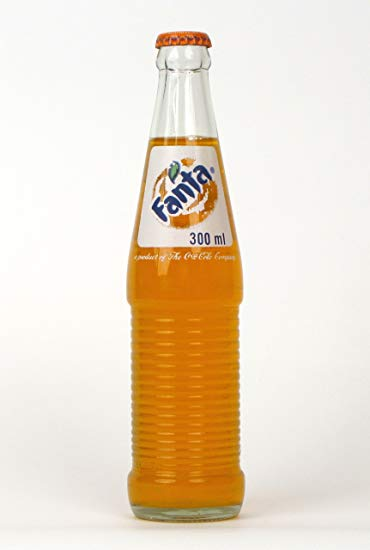Rec_Glass: (84, 19, 255, 538)
